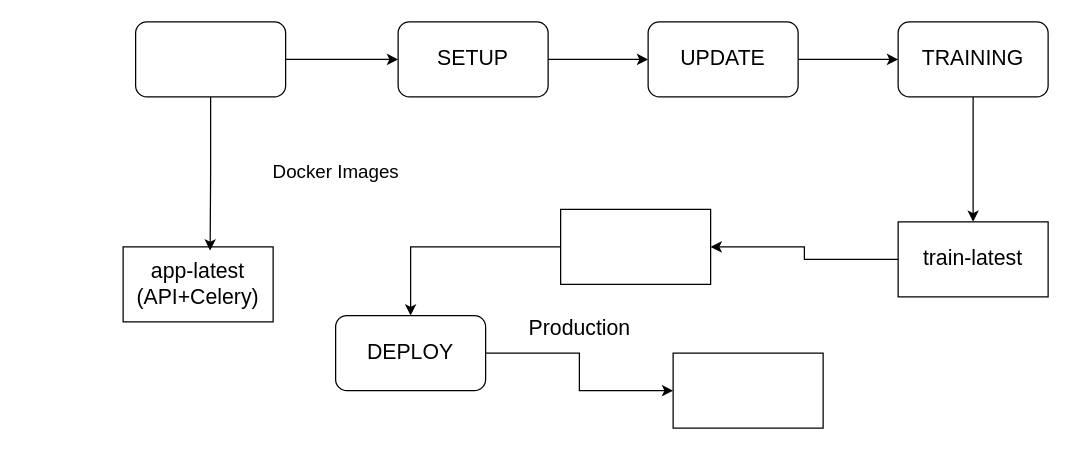
The diagram is 1070 pixels wide and 450 high, and some of its shapes have lost their labels. The shapes that lost their labels are listed below. From the top down, each one's box as (x1, y1, x2, y2) in pixels, then its label:
(134, 21, 286, 97): BUILD
(559, 208, 711, 284): model trained
(672, 352, 823, 428): Runninung on VM (Port 8080)
